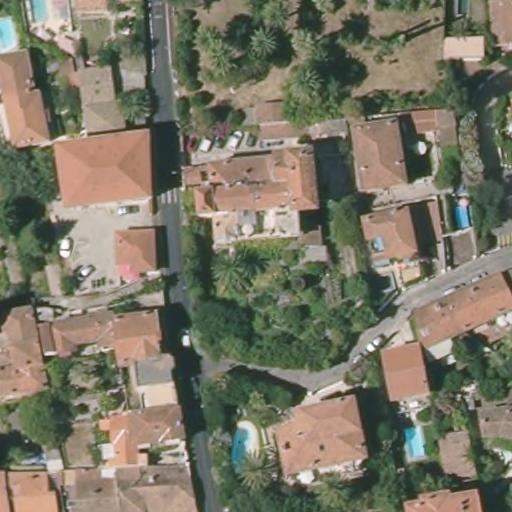pool: (227, 418, 259, 474), (449, 188, 474, 233), (401, 421, 427, 461), (0, 15, 19, 55), (26, 0, 50, 28)
